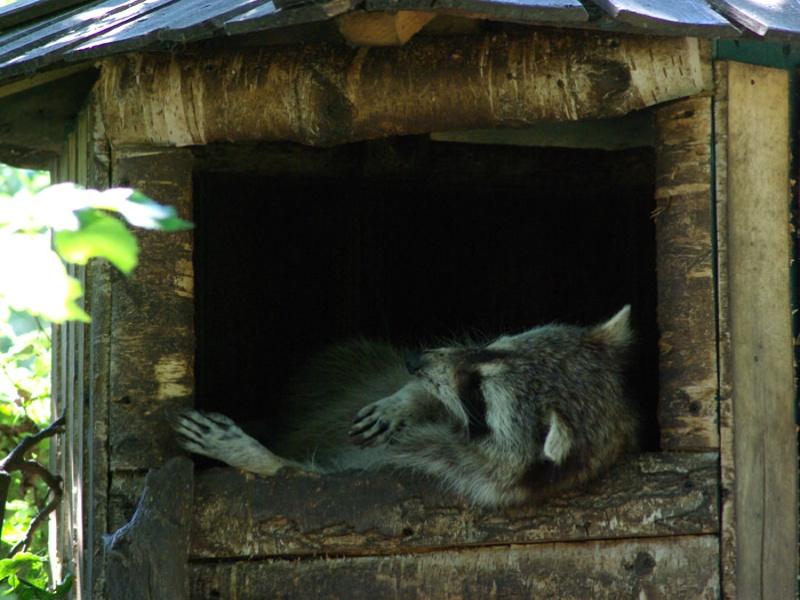raccoon: (172, 277, 652, 512)
